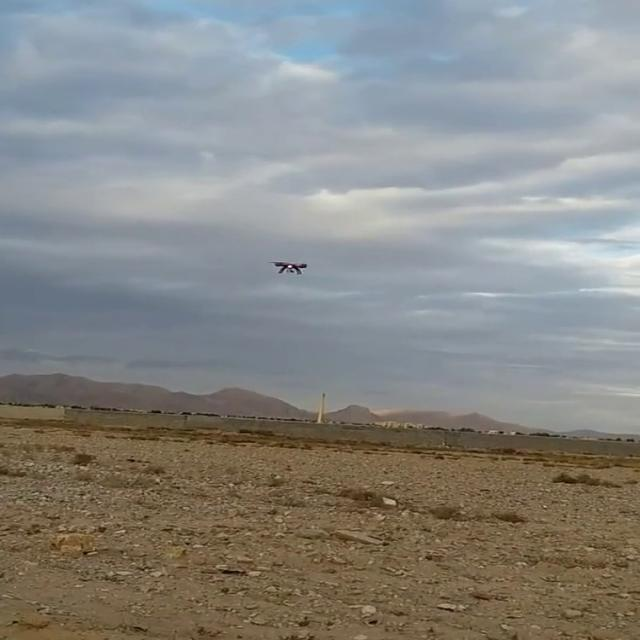drone: (264, 255, 312, 279)
